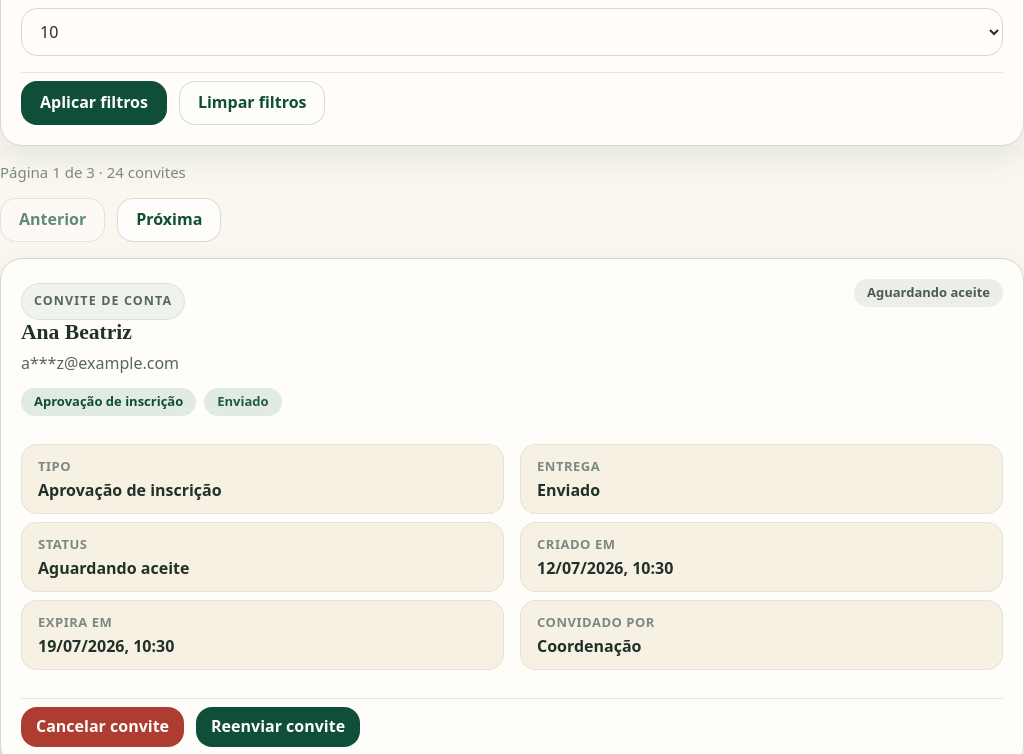
Test: AdminAccountInvitationsPage › sucesso de reenvio sent fecha modal, mostra mensagem e recarrega
The width and height of the screenshot is (1024, 754).
(page scrolled)
Click the button "Reenviar convite": click(278, 727) [196, 707, 360, 747]
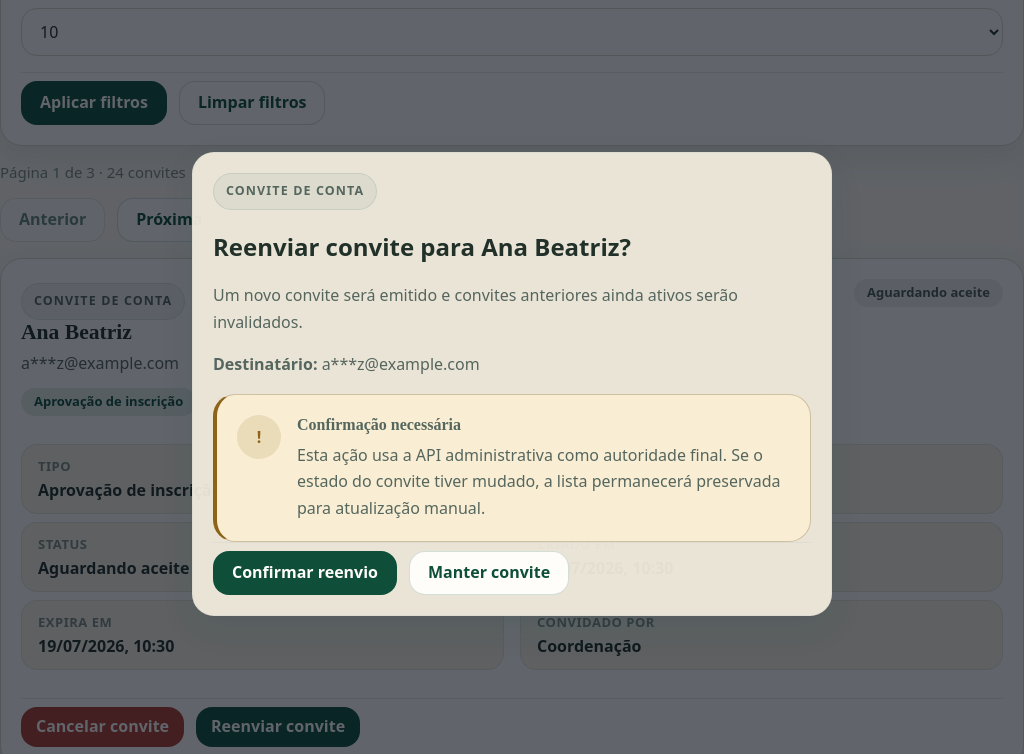
Click the button "Confirmar reenvio": click(305, 573) [213, 551, 397, 595]
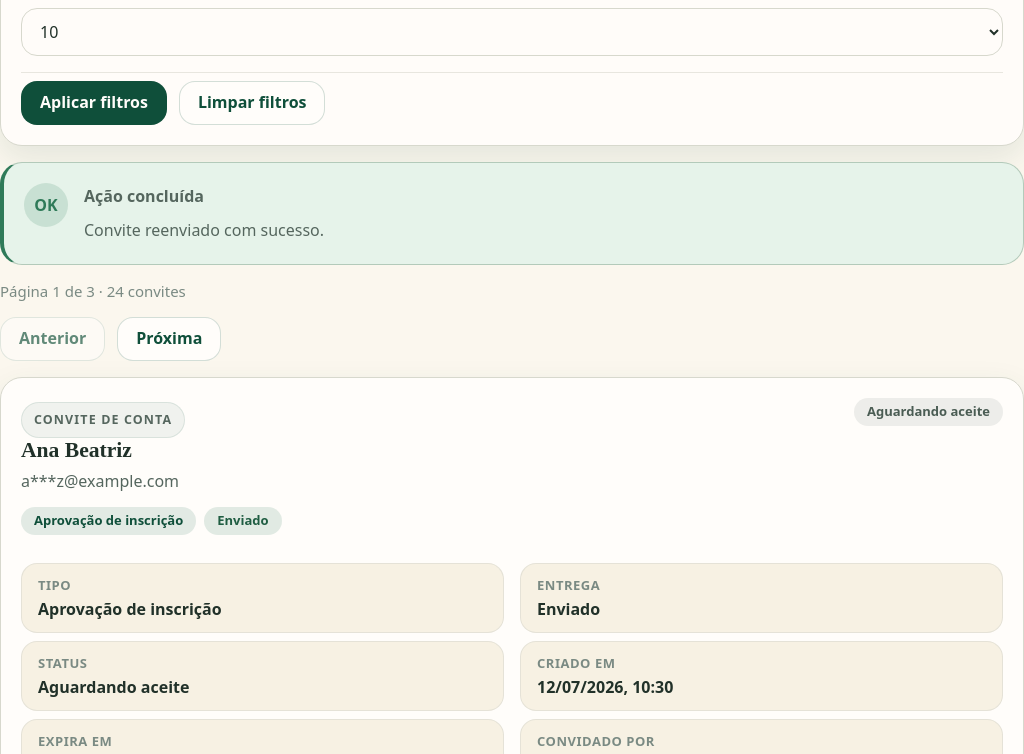
Result: the text "Convite reenviado com sucesso." is shown at [84, 219, 324, 241]
Result: the heading "Reenviar convite para Ana Beatriz" is gone
